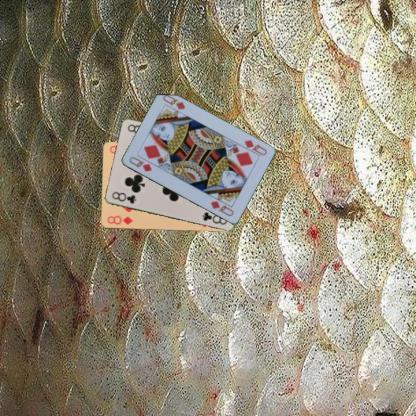8c: (109, 189, 138, 205)
8d: (104, 213, 134, 226)
Qd: (238, 138, 268, 158), (126, 154, 152, 173)
